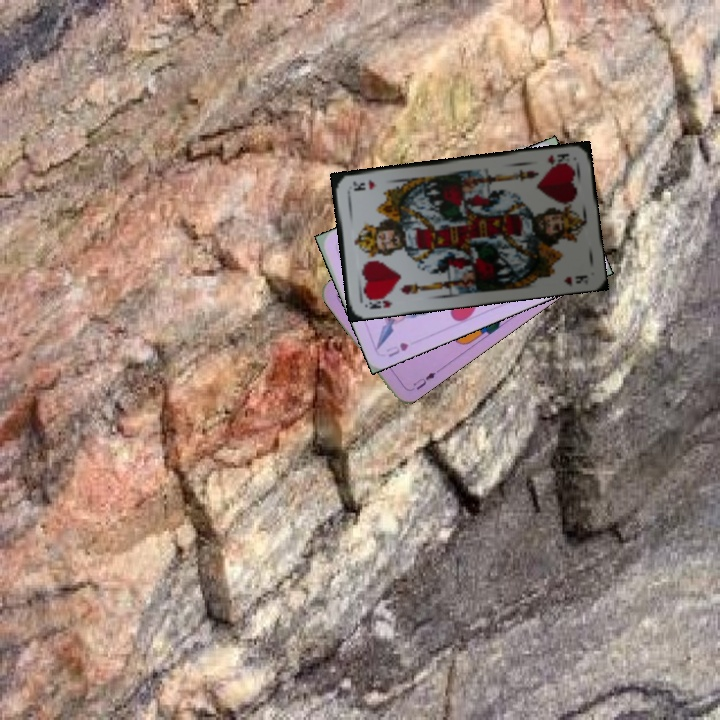EU: (405, 368, 438, 394)
HK: (362, 292, 395, 312), (544, 149, 574, 169)
HU: (382, 338, 411, 360)
